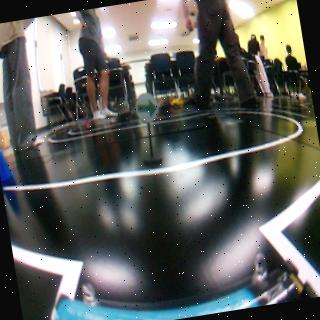right: (134, 93, 160, 123)
